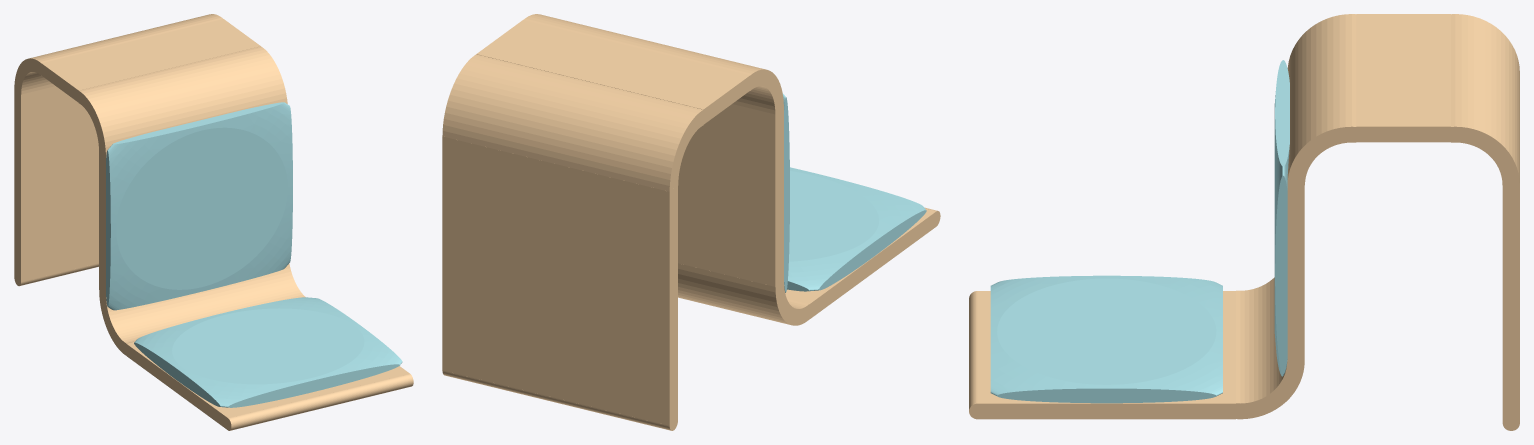
Rendered from tinker.obj.
3 renders of one model, left to right at view 1: azimuth 30°, elevation 25°; view 2: azimuth 150°, elevation 25°; view 3: azimuth 270°, elevation 25°, orthographic. The views are drawn at different scales.
Parts seen in each view (by area): view 1: group_0_11593967, group_0_16767659; view 2: group_0_16767659, group_0_11593967; view 3: group_0_16767659, group_0_11593967.
Part boxes in pixels (box(x1,y1,x2,y2)): group_0_11593967: box(106, 102, 402, 407); group_0_16767659: box(14, 14, 413, 430); group_0_16767659: box(442, 14, 940, 430); group_0_11593967: box(782, 93, 926, 292); group_0_16767659: box(969, 14, 1519, 430); group_0_11593967: box(990, 60, 1289, 403).
Bounding box in the file's own units: 31 × 39 × 64.
